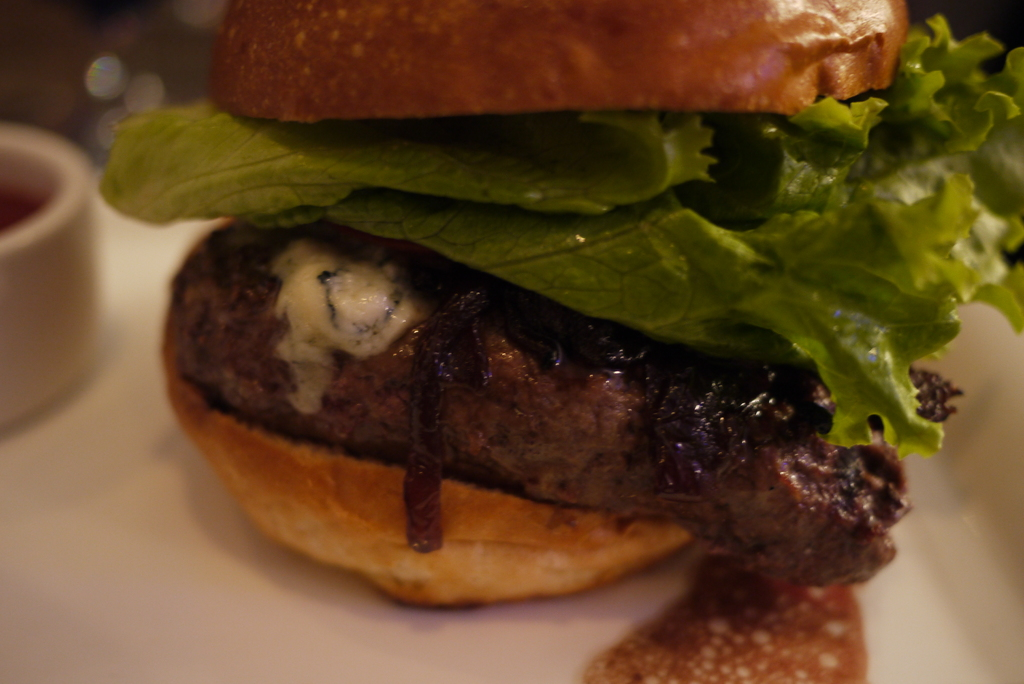Hamburger: (94, 0, 1023, 609)
